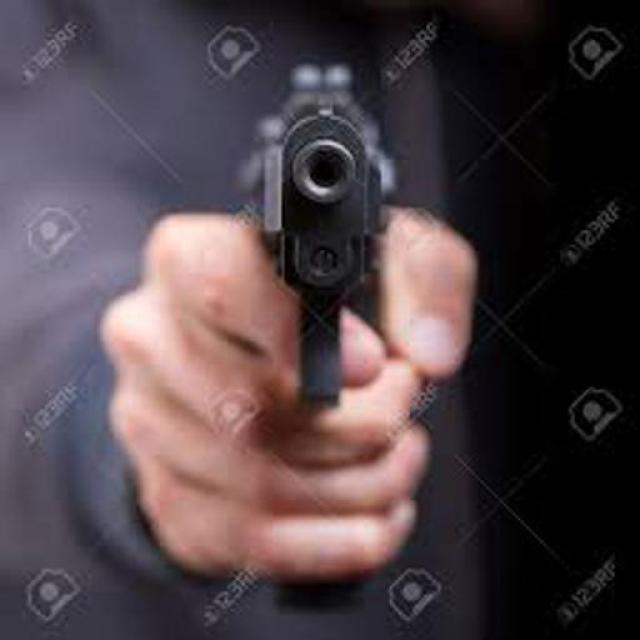pistol: (252, 54, 392, 636)
